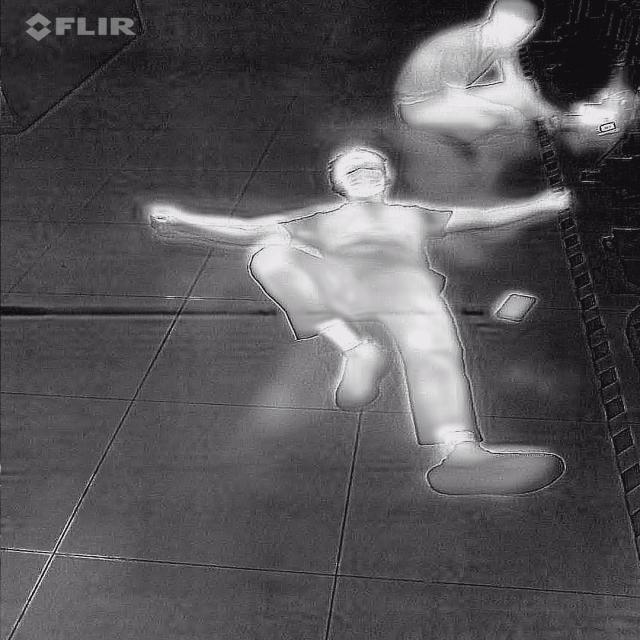Victim: (135, 140, 585, 503), (385, 0, 574, 148)
